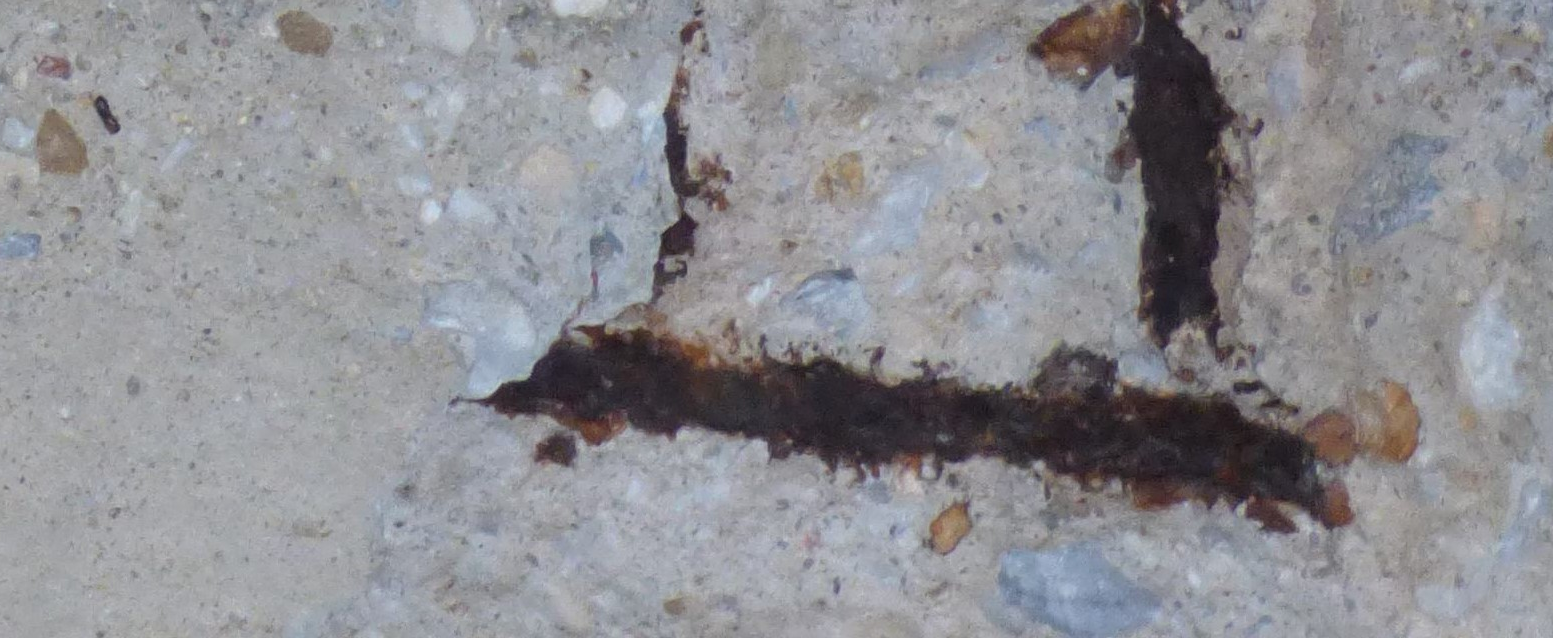Exposed reinforcement: (486, 324, 1330, 519), (1128, 1, 1238, 352)
